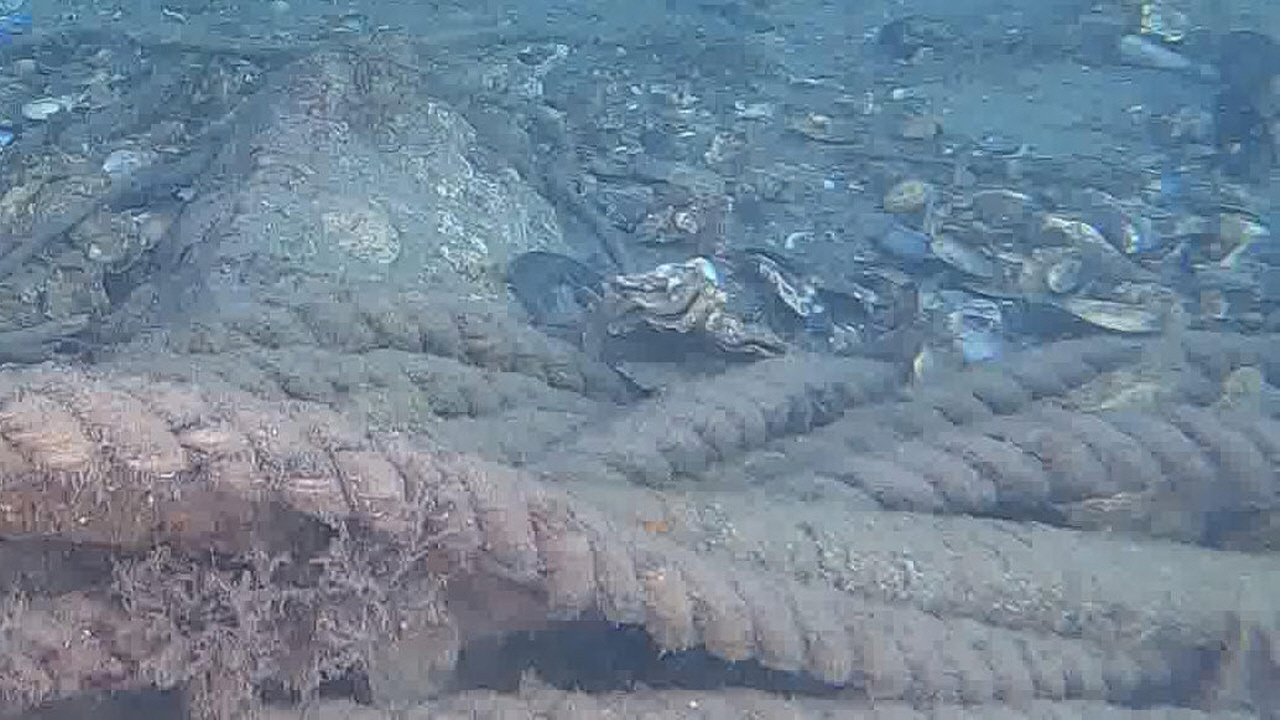bundle of ropes: (0, 297, 1278, 720)
